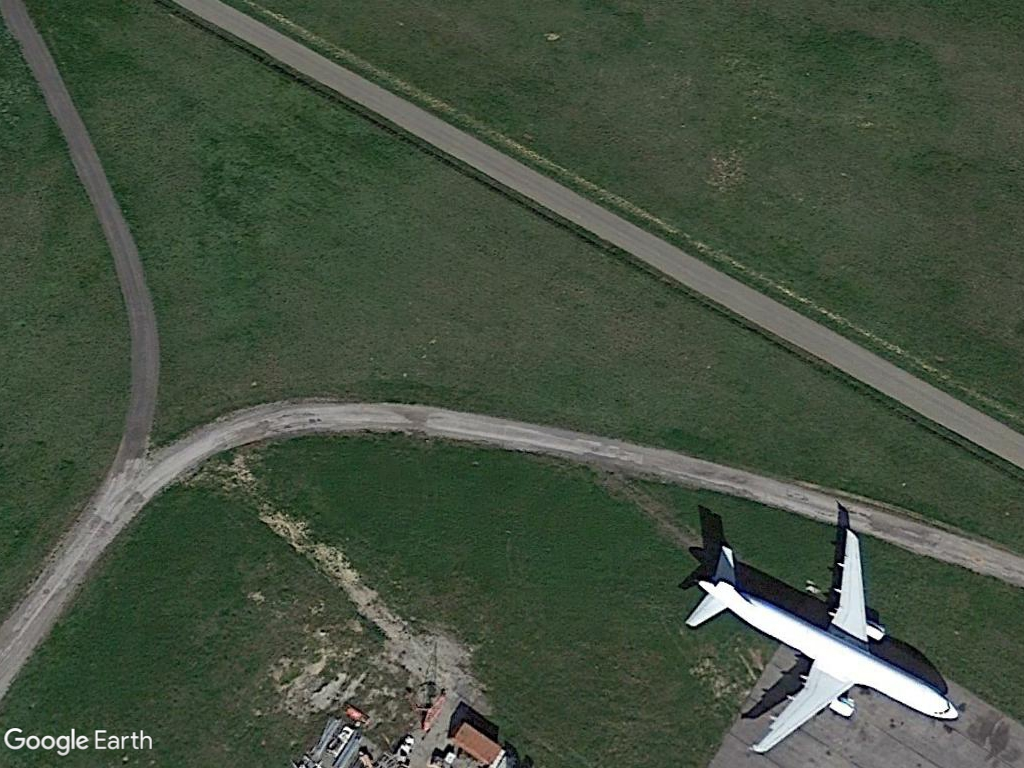airliner: (672, 525, 968, 751)
